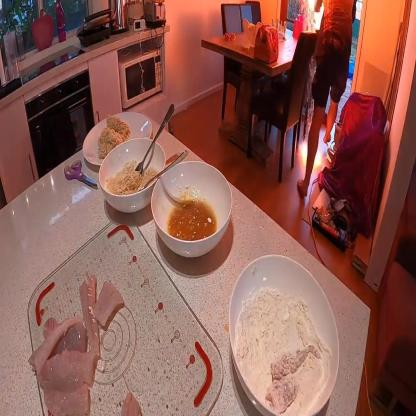fire: (308, 0, 325, 29)
